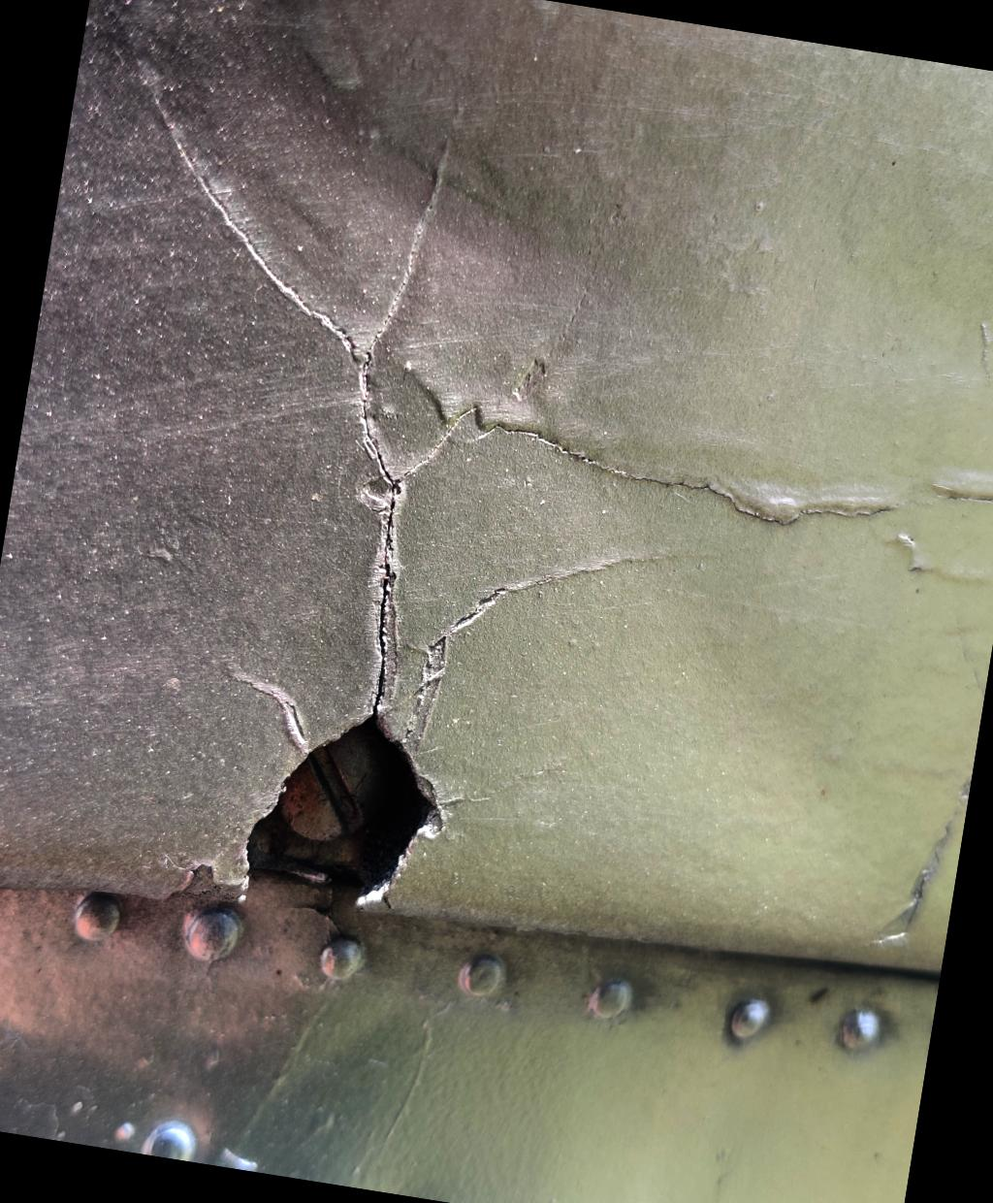crack: (58, 129, 661, 999)
